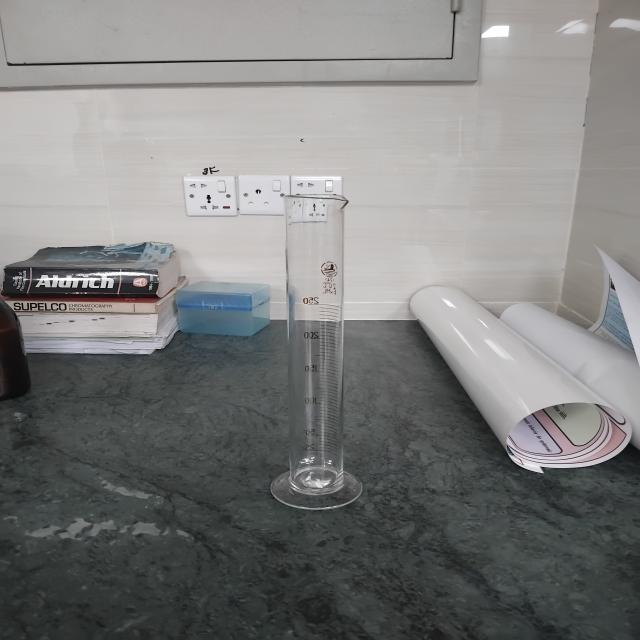Measuring_Cylinder: (248, 155, 408, 529)
